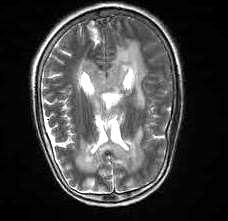Normal_Brain: (17, 7, 228, 221)
